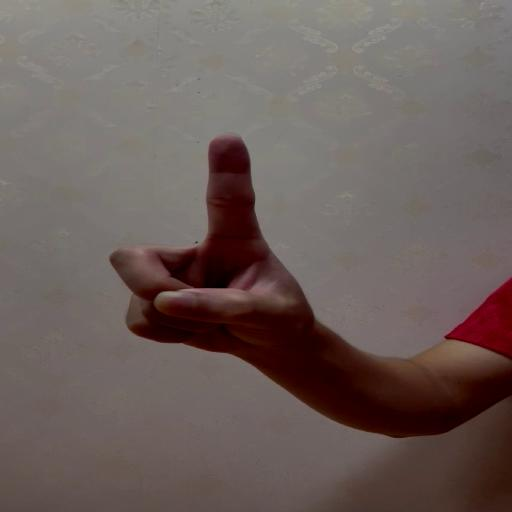point: (108, 131, 286, 355)
